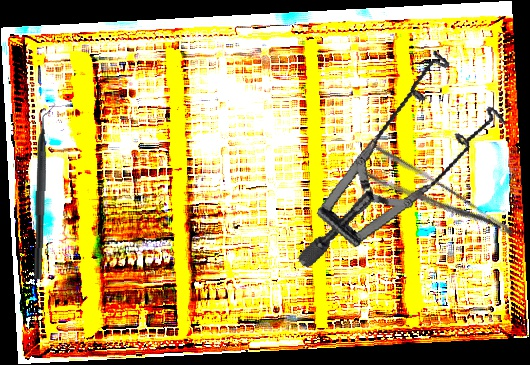Chopper: (33, 101, 58, 281)
Dressing Forceps: (359, 142, 517, 261)
Speculum: (256, 36, 528, 271)
